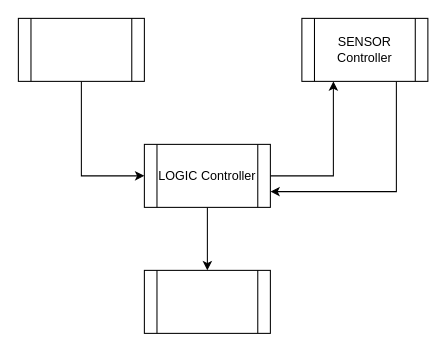
This 446x352 diagram has some shape labels left out. Each missing label, with the box of its shape:
INPUT Controller: (17, 17, 144, 81)
OUTPUT Controller: (143, 269, 270, 333)
